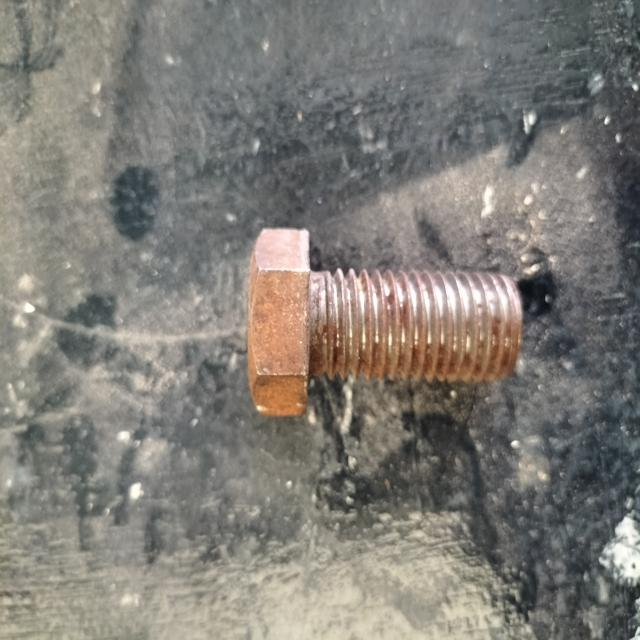bolt: (248, 228, 520, 411)
